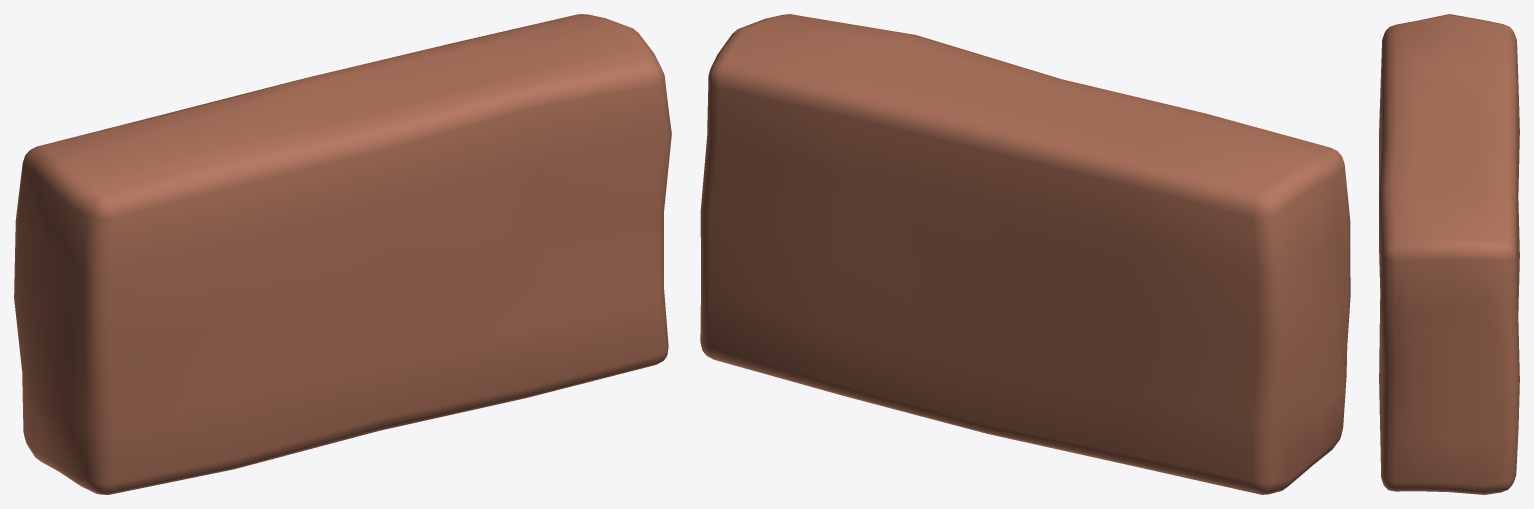
The model's file is birck.fbx.
3 renders of one model, left to right at view 1: azimuth 30°, elevation 25°; view 2: azimuth 150°, elevation 25°; view 3: azimuth 270°, elevation 25°, orthographic. The views are drawn at different scales.
Parts seen in each view (by area): view 1: BirckOut; view 2: BirckOut; view 3: BirckOut.
Boxes of the visible parts, x1=… form: BirckOut: x1=14, y1=14, x2=671, y2=494; BirckOut: x1=700, y1=14, x2=1350, y2=494; BirckOut: x1=1379, y1=14, x2=1519, y2=494.
Size of the model in its own units: 404 by 101 by 204.
Materials: 2 (2 with a texture image).
